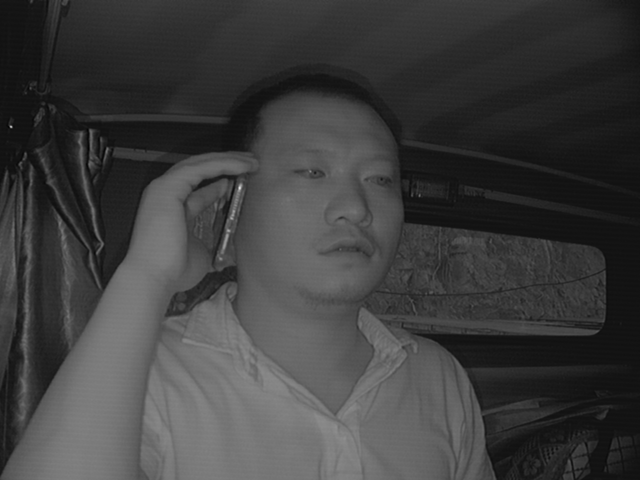hand: (136, 149, 252, 289)
